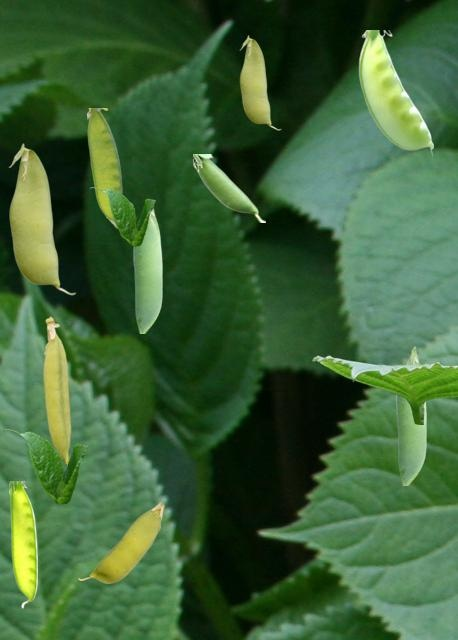pea: (8, 143, 75, 294), (358, 30, 432, 156), (78, 502, 163, 582), (193, 154, 264, 221), (87, 108, 122, 227), (396, 346, 425, 484), (43, 316, 70, 464), (239, 35, 280, 129), (133, 209, 161, 332), (9, 481, 36, 607)
